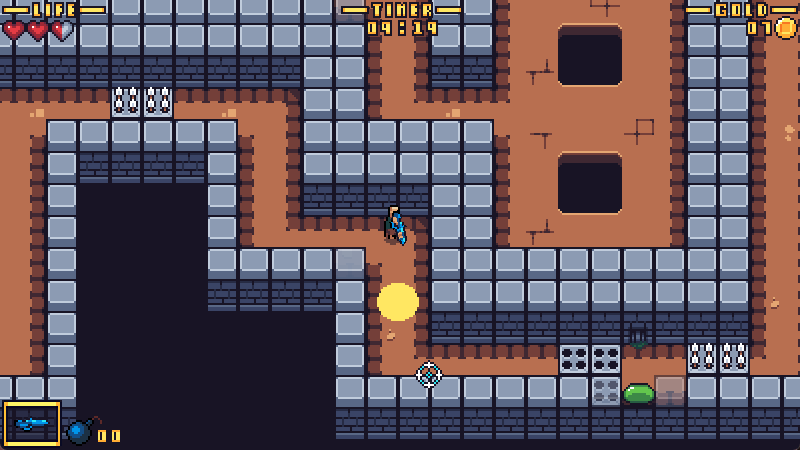aim: (416, 361, 444, 389)
enemy_slug: (622, 378, 656, 406)
health-1: (1, 19, 75, 41)
trap_off: (559, 344, 620, 406)
trap_on: (685, 340, 749, 405), (112, 87, 174, 149)
